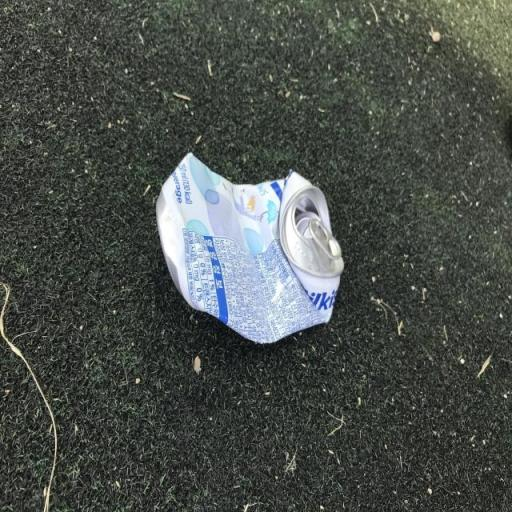metal: (141, 126, 364, 368)
